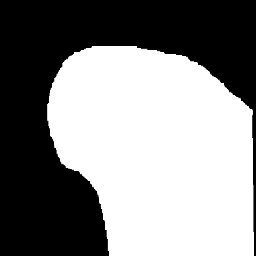mass: (53, 41, 214, 149)
